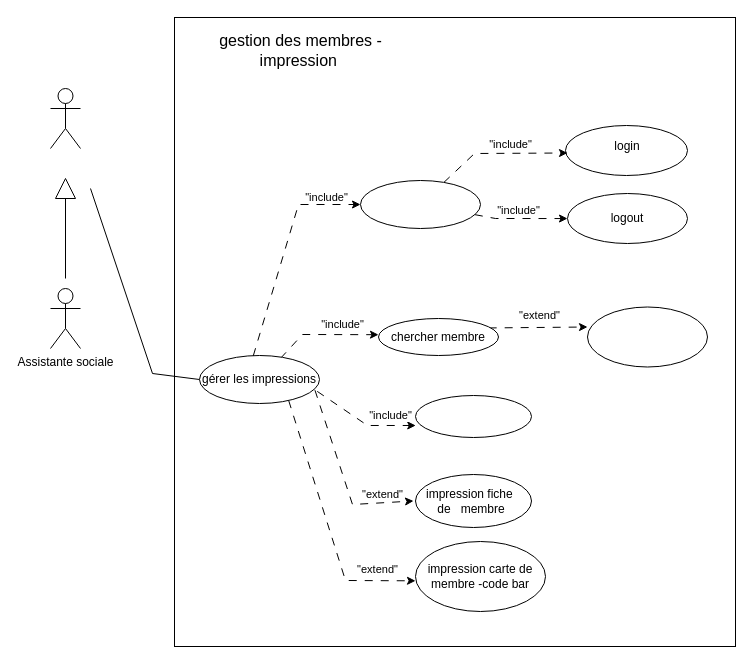
Some shapes in this 753 by 664 pixel diagram are drawn without their labels. Here are the shapes that lost their labels. From the top down, the box of each, then its label:
(50, 88, 80, 148): responsable
(360, 180, 480, 228): authentifier
(586, 306, 708, 367): lire carte d'identitité
(414, 394, 532, 438): afficher membre
